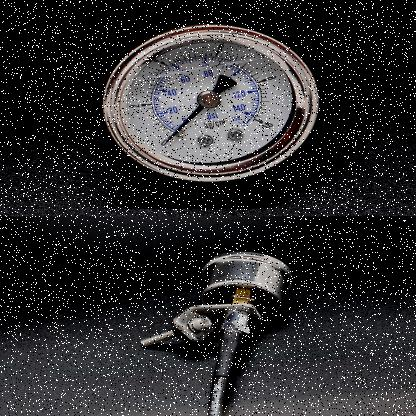needle: (164, 104, 205, 143)
